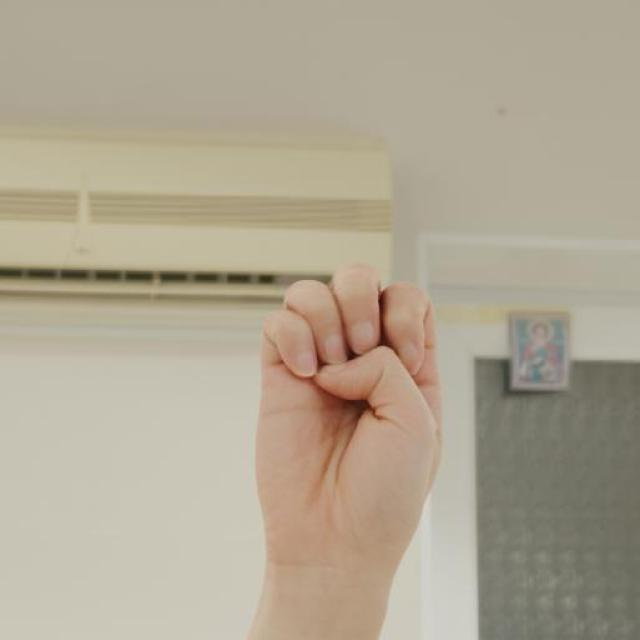E: (241, 262, 450, 566)
